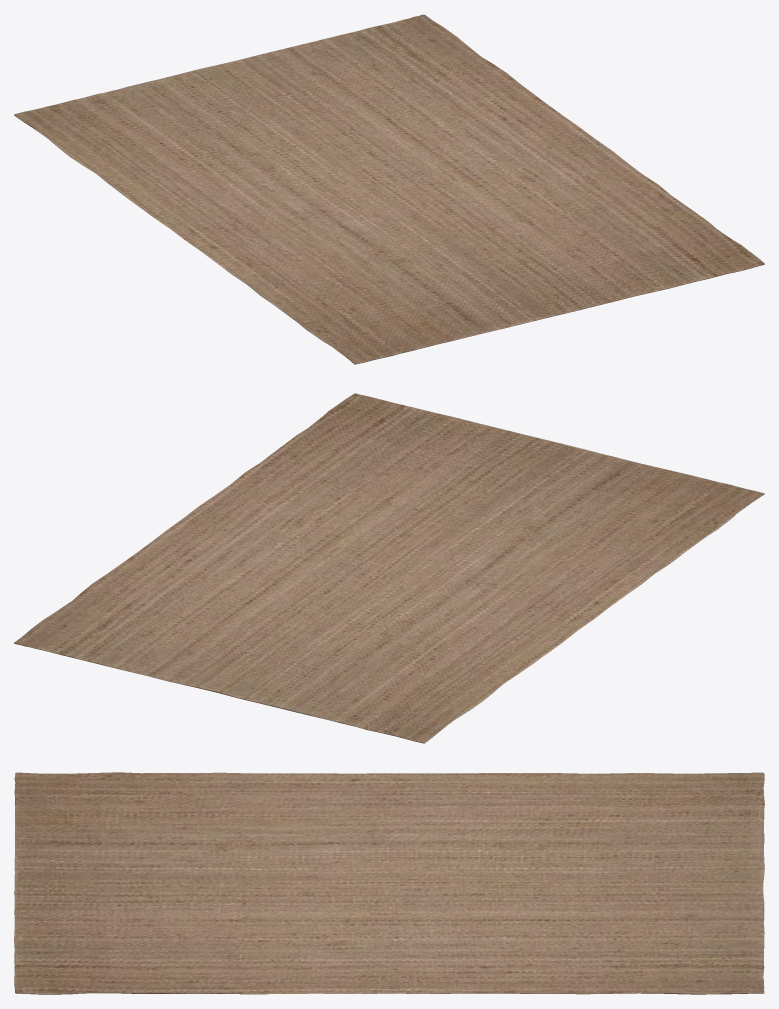
The model's file is LB-BR-RUG-05.glb.
3 views of the same model, one above another, from view 1: azimuth 30°, elevation 25°; view 2: azimuth 150°, elevation 25°; view 3: azimuth 270°, elevation 25° (orthographic). The views are drawn at different scales.
Visible parts, largest first — view 1: G-70527051-STRÃ–G; view 2: G-70527051-STRÃ–G; view 3: G-70527051-STRÃ–G.
Part boxes in pixels (left/top/right/bottom): G-70527051-STRÃ–G: left=14, top=14, right=764, bottom=364; G-70527051-STRÃ–G: left=14, top=393, right=764, bottom=743; G-70527051-STRÃ–G: left=14, top=772, right=764, bottom=994.
Bounding box in the file's own units: 1.55 × 0.00529 × 2.22.
Materials: 1 (1 with a texture image).
